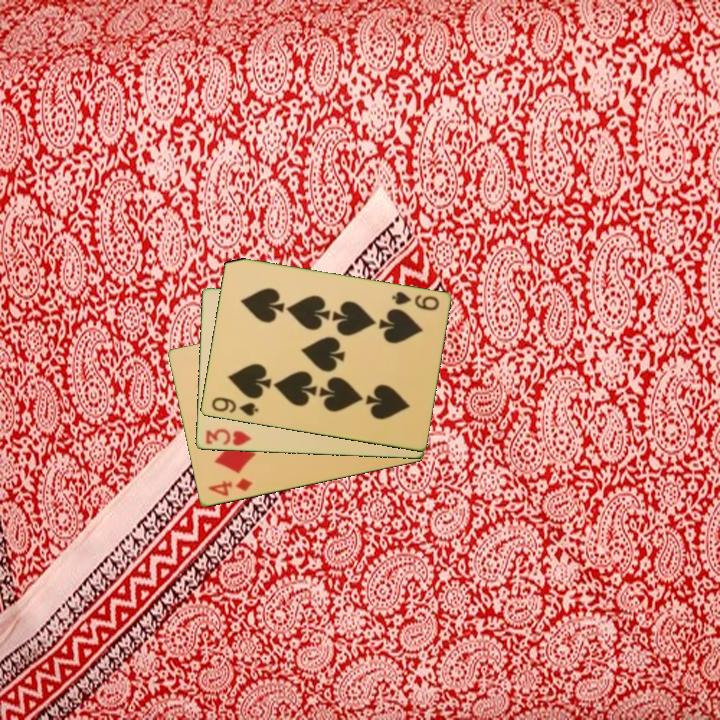3h: (202, 426, 254, 449)
4d: (205, 475, 255, 499)
9s: (388, 288, 442, 314), (208, 394, 261, 419)
